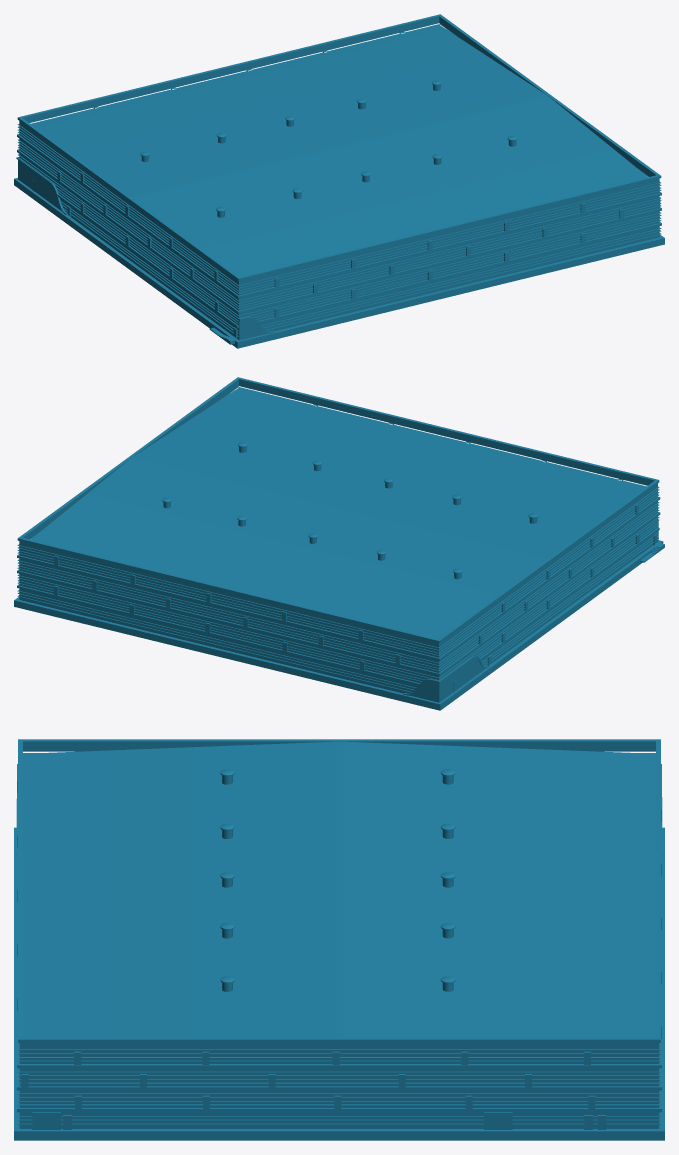
The model's file is yq_minyong.glb.
3 renders of one model, top to bottom at view 1: azimuth 30°, elevation 25°; view 2: azimuth 150°, elevation 25°; view 3: azimuth 270°, elevation 25°, orthographic. The views are drawn at different scales.
Visible parts, largest first — view 1: yq_mygc_outline00, yq_mygc_outline01, yq_mygc12, yq_mygc06, yq_mygc05, yq_mygc11, yq_mygc13; view 2: yq_mygc_outline00, yq_mygc_outline01, yq_mygc12, yq_mygc06, yq_mygc11, yq_mygc05; view 3: yq_mygc_outline00, yq_mygc_outline01, yq_mygc12, yq_mygc06, yq_mygc05.
Part boxes in pixels (bbox=[...]): yq_mygc_outline00: bbox=[31, 25, 647, 276]; yq_mygc_outline01: bbox=[14, 14, 664, 348]; yq_mygc12: bbox=[17, 24, 661, 336]; yq_mygc06: bbox=[17, 32, 661, 328]; yq_mygc05: bbox=[140, 80, 517, 217]; yq_mygc11: bbox=[16, 157, 67, 214]; yq_mygc13: bbox=[239, 316, 274, 340]; yq_mygc_outline00: bbox=[30, 387, 645, 638]; yq_mygc_outline01: bbox=[14, 377, 663, 710]; yq_mygc12: bbox=[17, 387, 659, 692]; yq_mygc06: bbox=[17, 404, 660, 685]; yq_mygc11: bbox=[403, 655, 489, 702]; yq_mygc05: bbox=[162, 442, 538, 579]; yq_mygc_outline00: bbox=[23, 741, 655, 1037]; yq_mygc_outline01: bbox=[14, 739, 664, 1140]; yq_mygc12: bbox=[18, 753, 660, 1124]; yq_mygc06: bbox=[17, 764, 661, 1112]; yq_mygc05: bbox=[220, 769, 455, 991].
Size of the model in its own units: 102 by 16.33 by 91.1.
